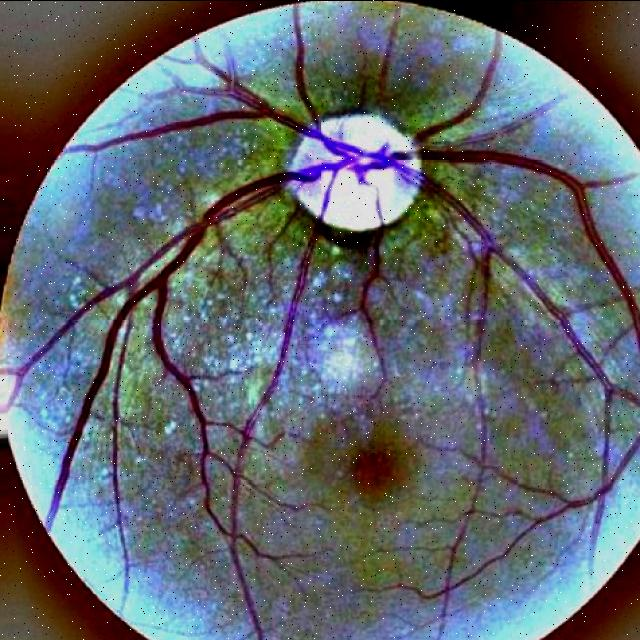Macula: (351, 449, 397, 499)
Nerves: (8, 4, 640, 640)
Optic Disk: (289, 114, 422, 233)
